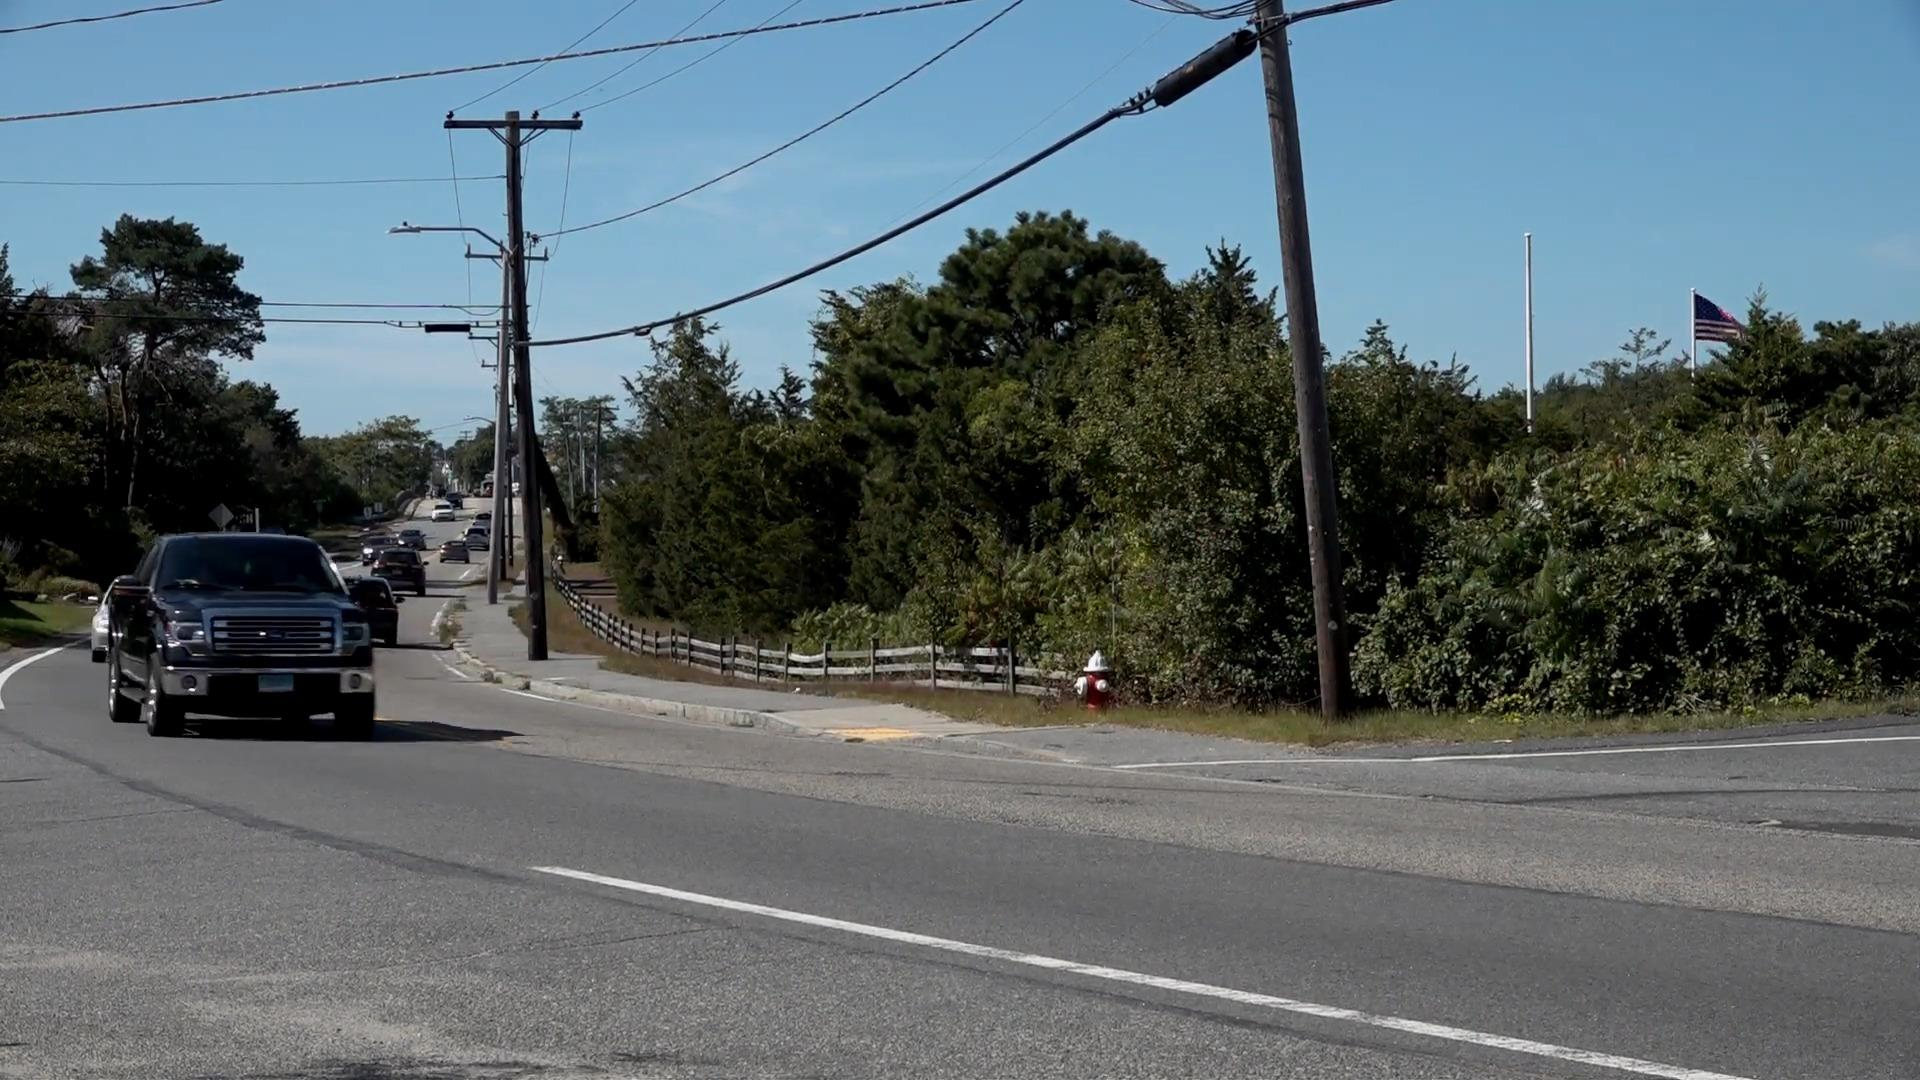pickup: (112, 528, 373, 740)
